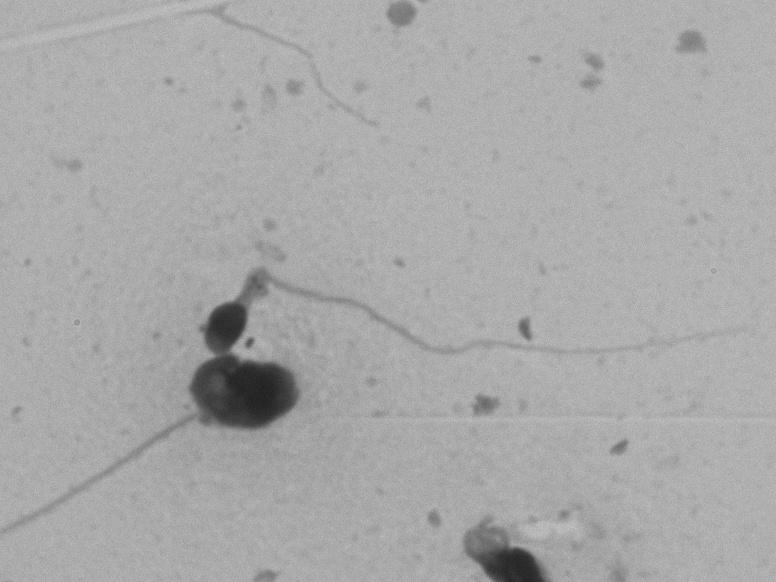Abnormal: (186, 218, 740, 362)
